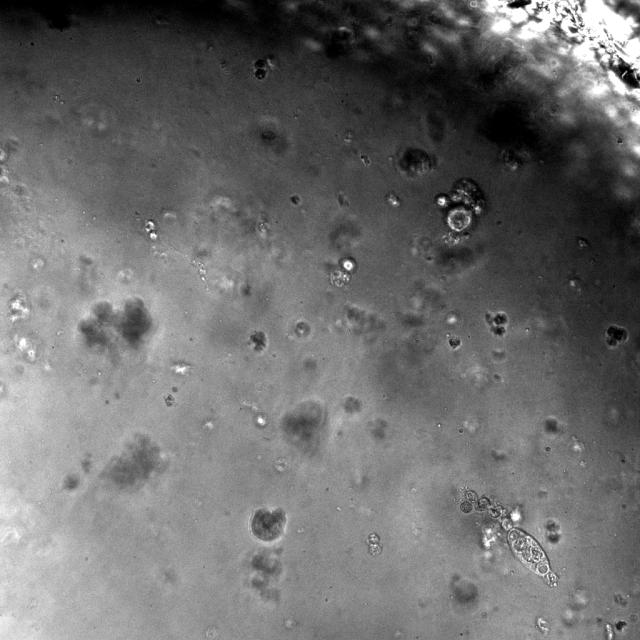organoid: (461, 487, 558, 586), (79, 298, 152, 347), (434, 178, 486, 246), (251, 507, 286, 541), (398, 147, 431, 175), (329, 257, 357, 287), (485, 312, 508, 336), (605, 324, 628, 348), (544, 519, 561, 542), (367, 533, 382, 555), (254, 59, 268, 80), (536, 616, 550, 634), (604, 622, 614, 639), (448, 336, 461, 349), (615, 620, 627, 631)
